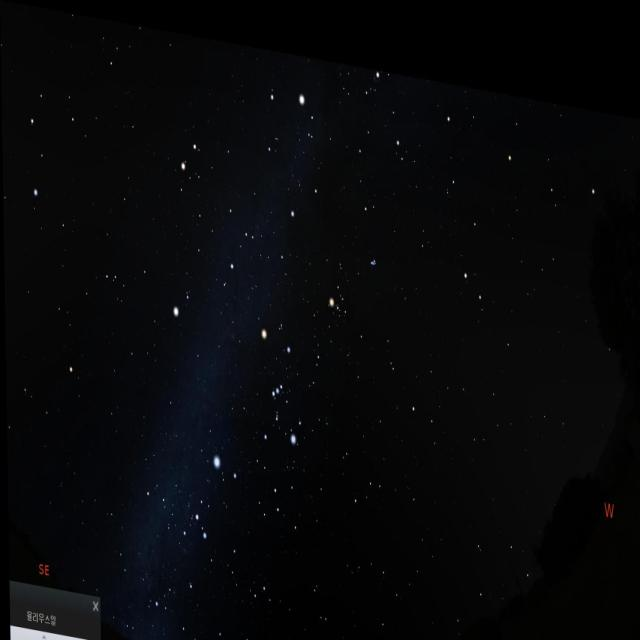canis_major: (180, 434, 239, 541)
canis_minor: (170, 274, 194, 322)
gemini: (172, 127, 254, 276)
orion: (255, 310, 305, 451)
pleiades: (368, 240, 379, 260)
taurus: (320, 222, 385, 334)
